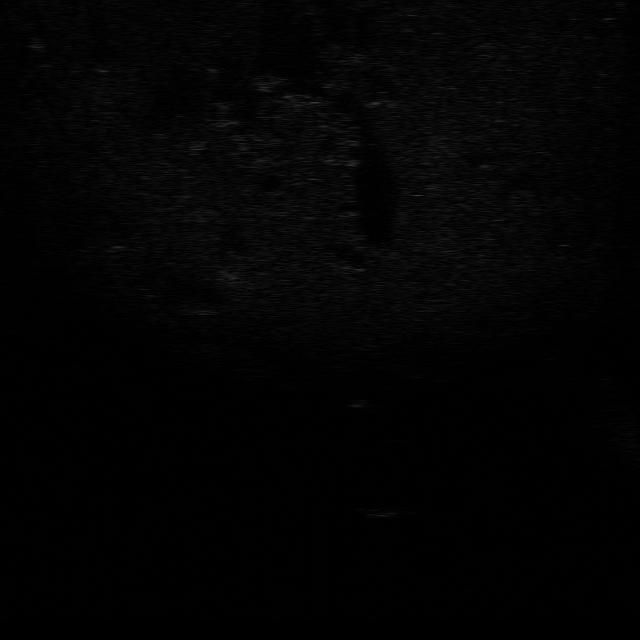cube: (352, 503, 402, 519)
square cage: (342, 398, 382, 412)
